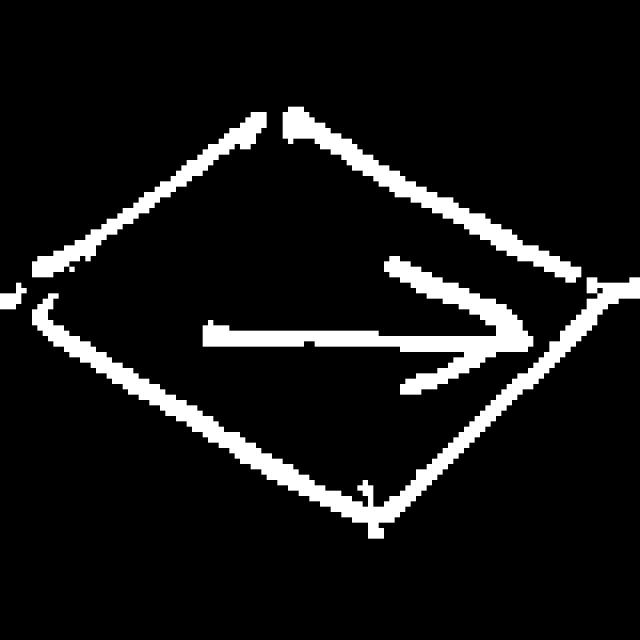dependant_current: (20, 80, 622, 552)
